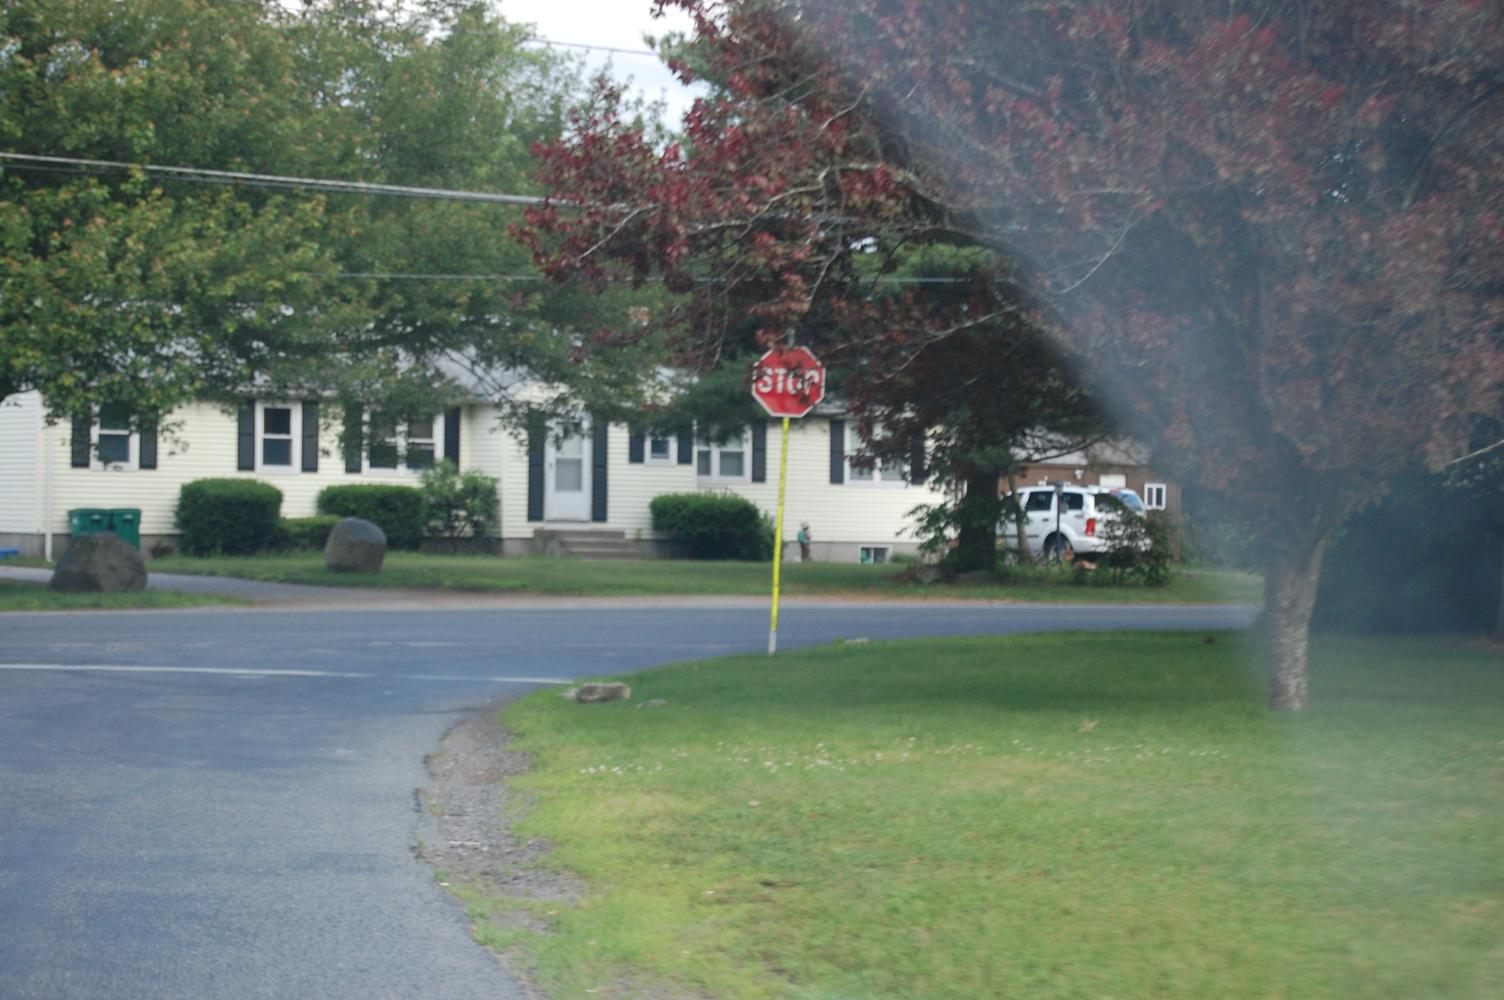car: (977, 481, 1159, 566)
stop: (752, 339, 830, 426)
